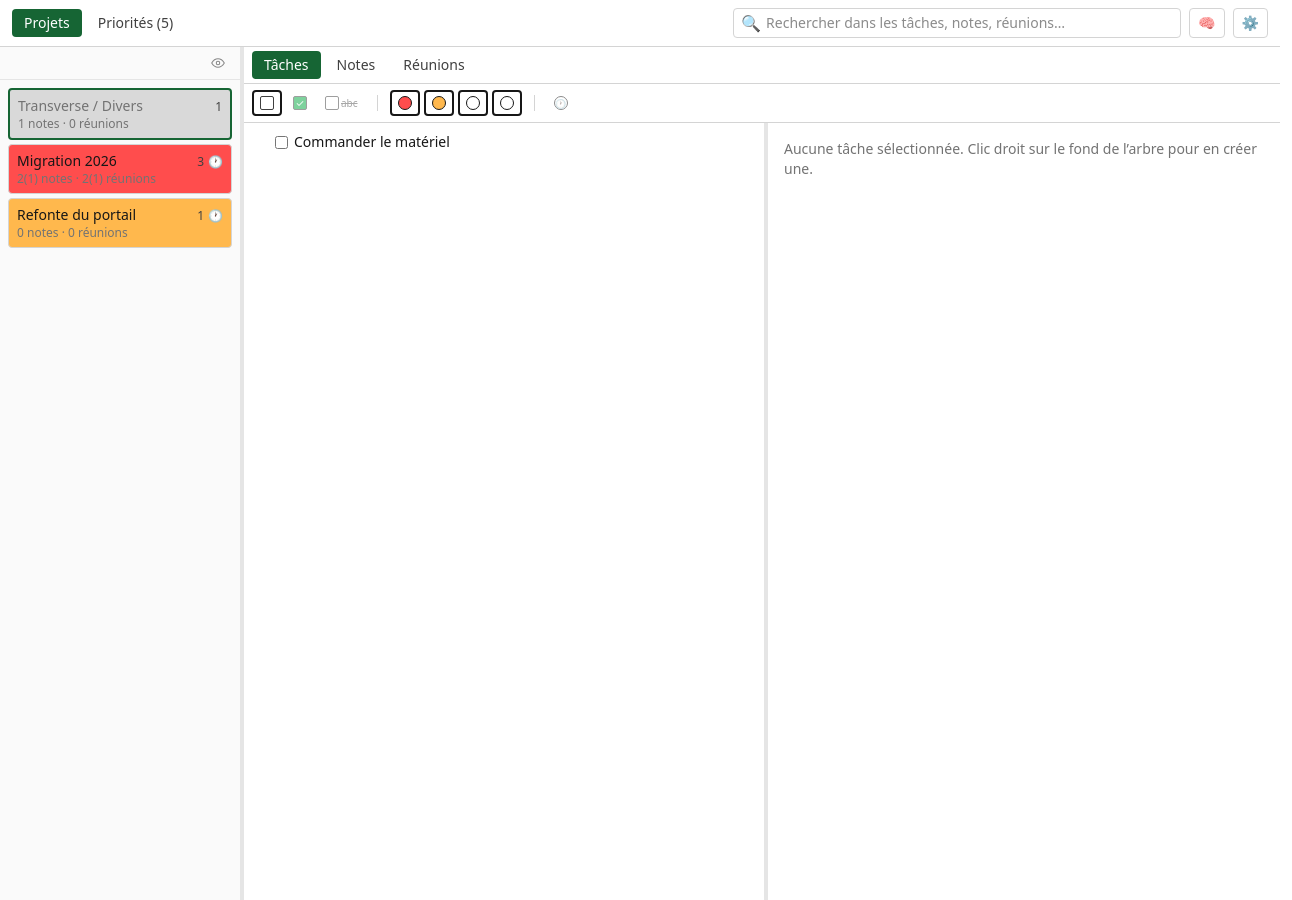
Scenario: Bascule et résultats sémantiques (§2.12) › seules les entités ajoutées remontent, et le mode est signalé
The width and height of the screenshot is (1292, 900).
Expected: the navigation bar named "Projets" is shown, [0,80,240,899]
Click the tab "Notes". click: (356, 65)
box: [324,51,387,79]
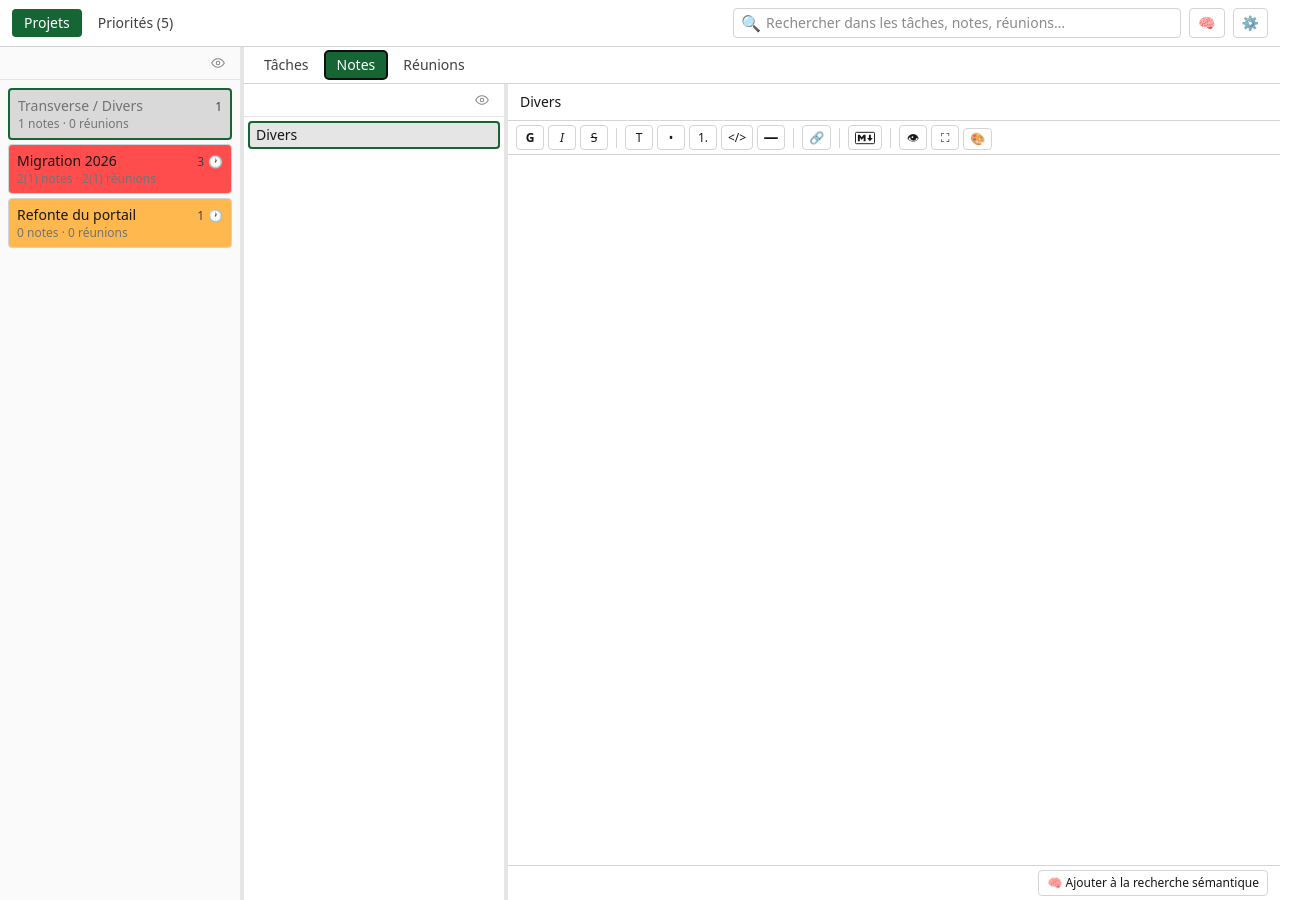
Click the button "Migration 2026 3 🕐 2(1) notes · 2(1) réunions". click: (120, 169)
box: [8,144,232,194]
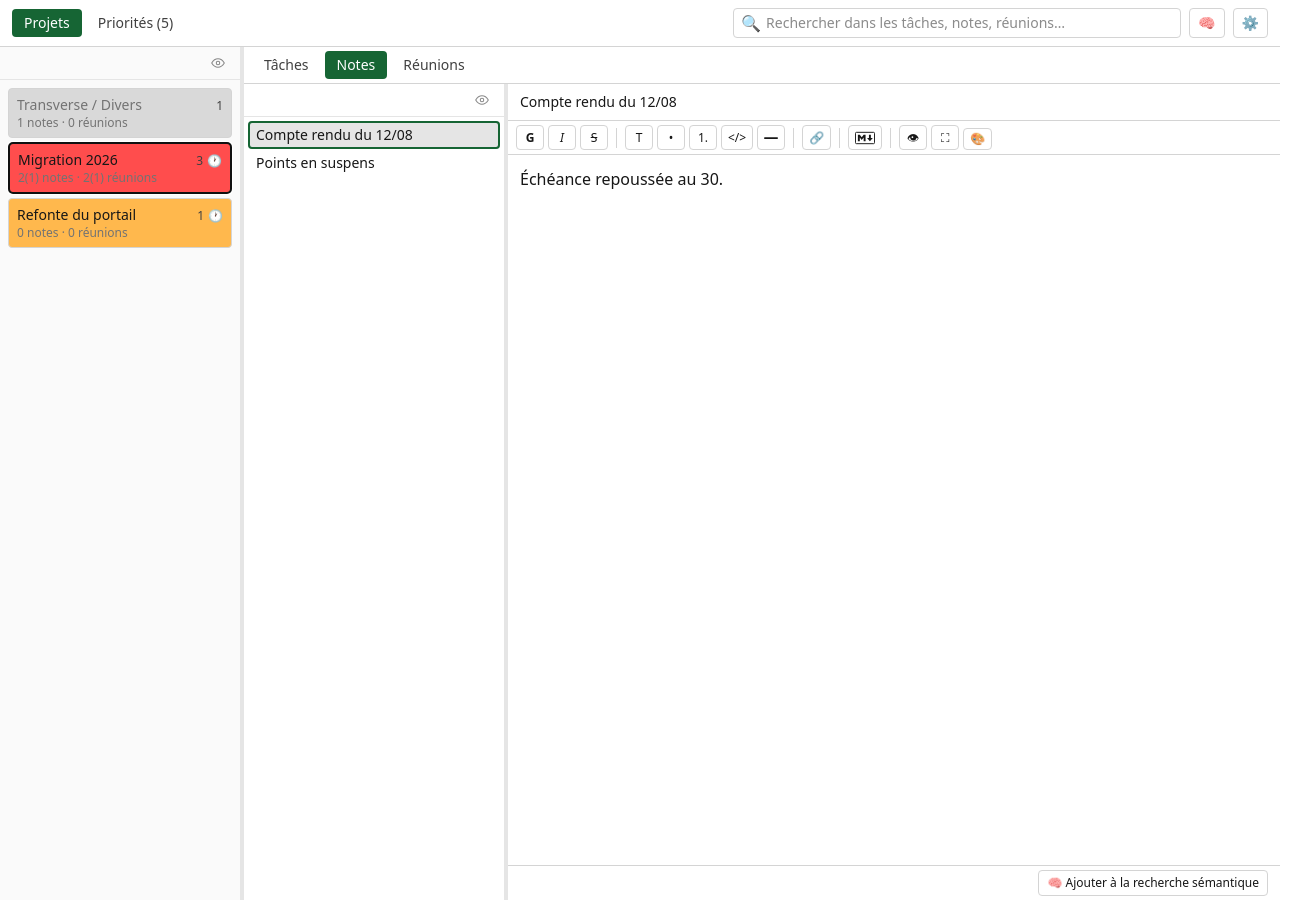
Click the button "Compte rendu du 12/08". click: (374, 135)
box: [248,121,500,149]
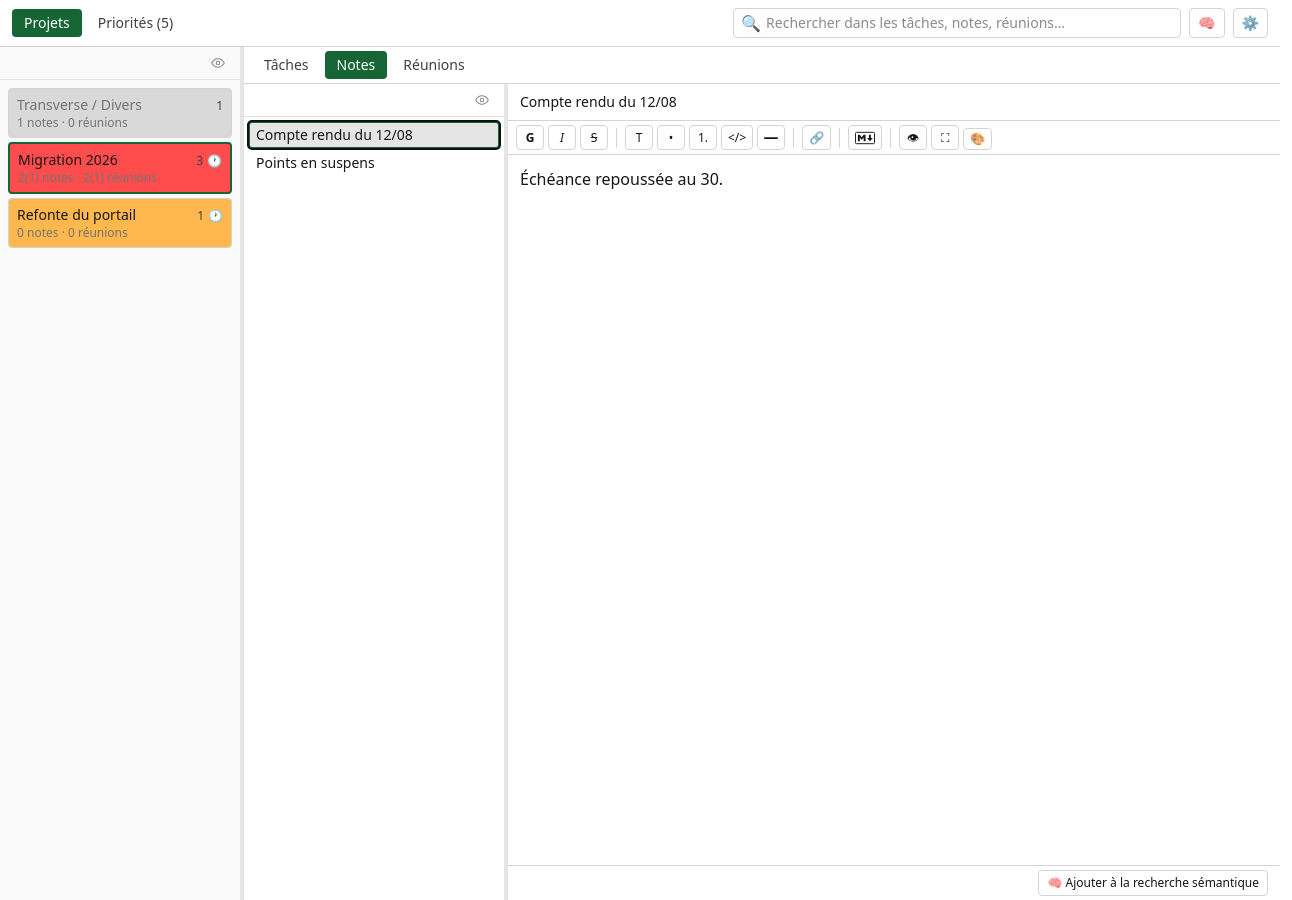
Click the button "🧠 Ajouter à la recherche sémantique". click: (1153, 883)
box: [1038,870,1268,896]
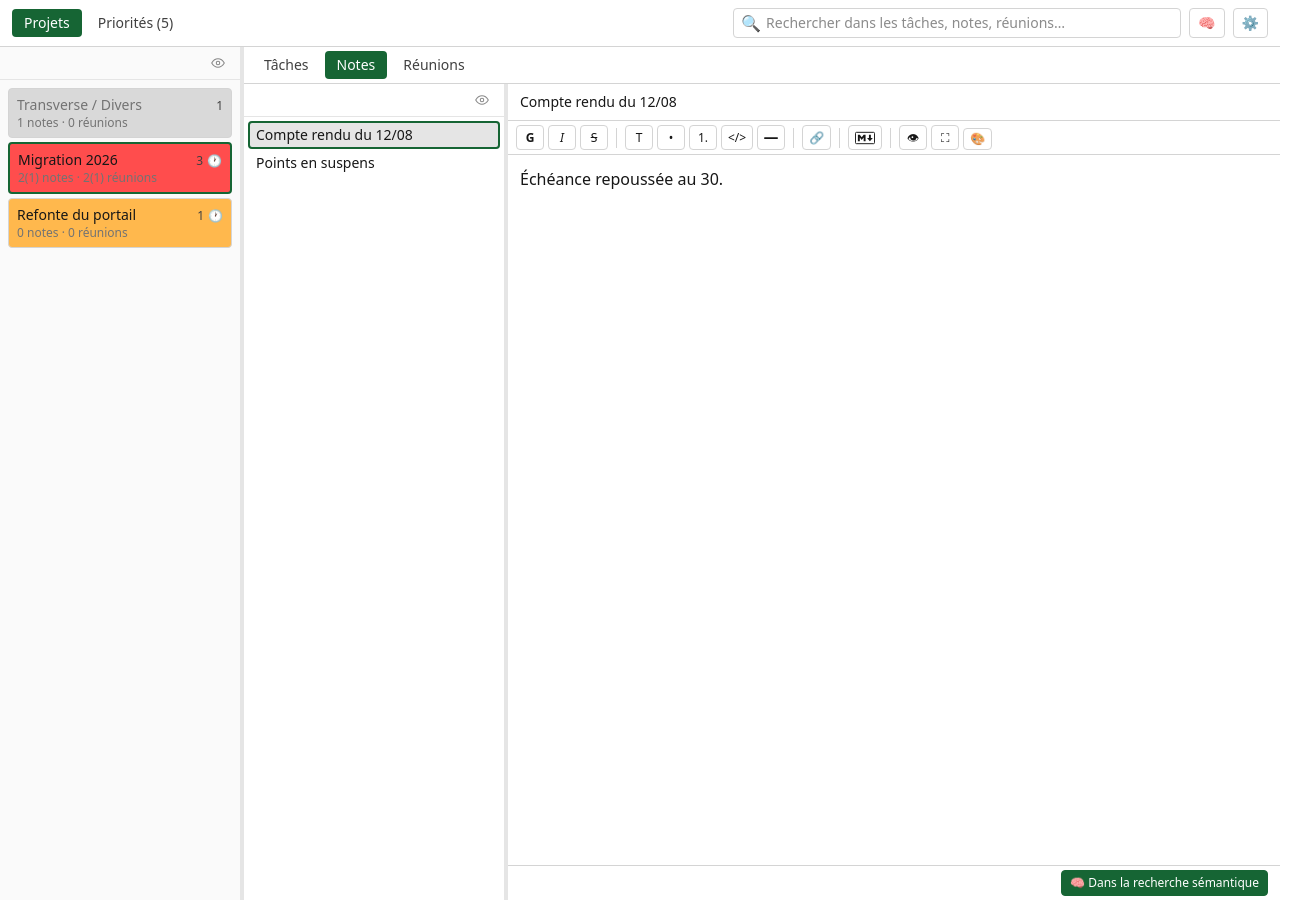
Now the button "🧠 Dans la recherche sémantique" is shown, box [1061,870,1268,896]
Click the button named "Recherche sémantique". click: (1207, 23)
box: [1189,8,1225,38]
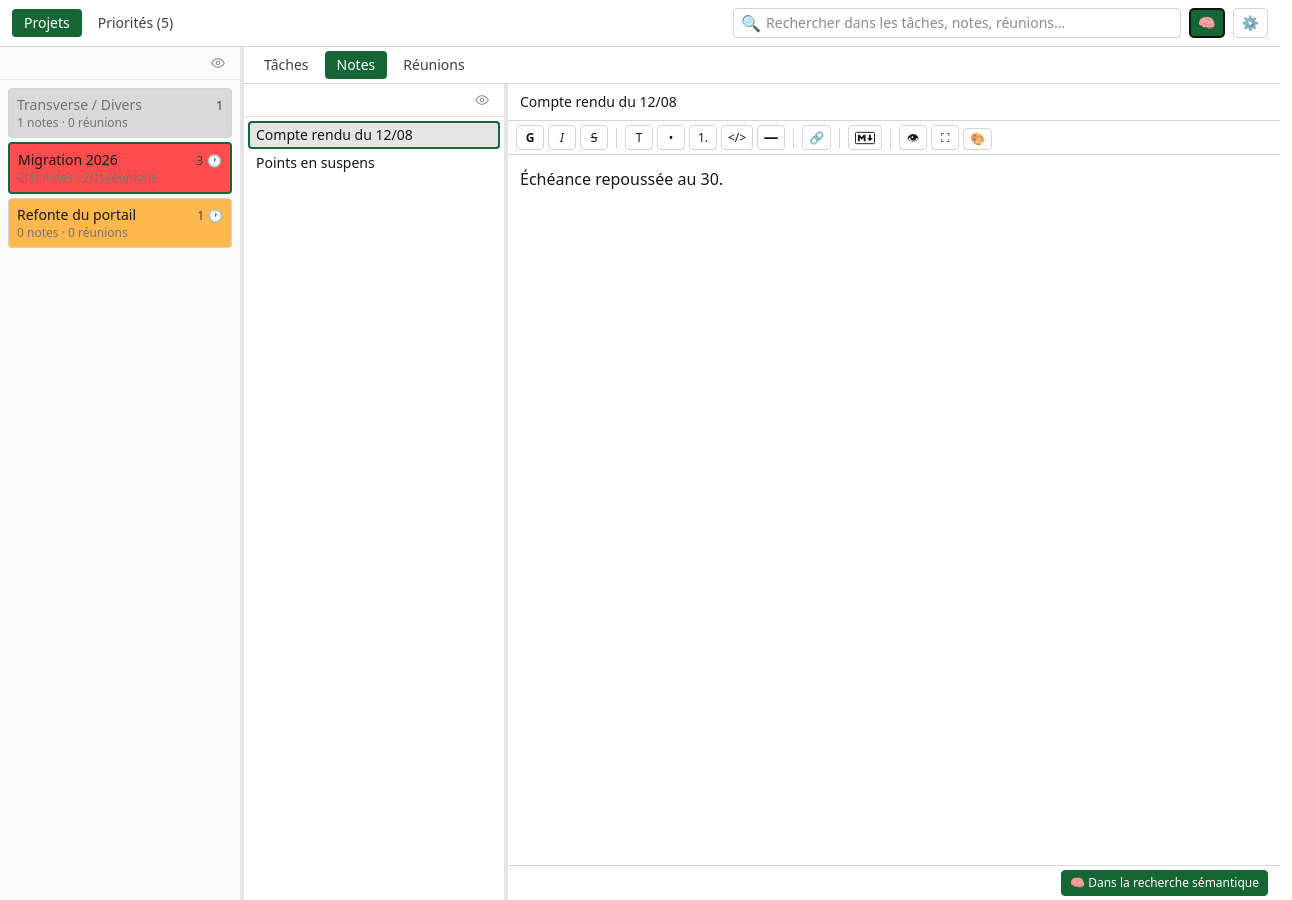
Type "échéance repoussée" into the search field named "Rechercher". click: (957, 23)
box: [733,8,1181,38]
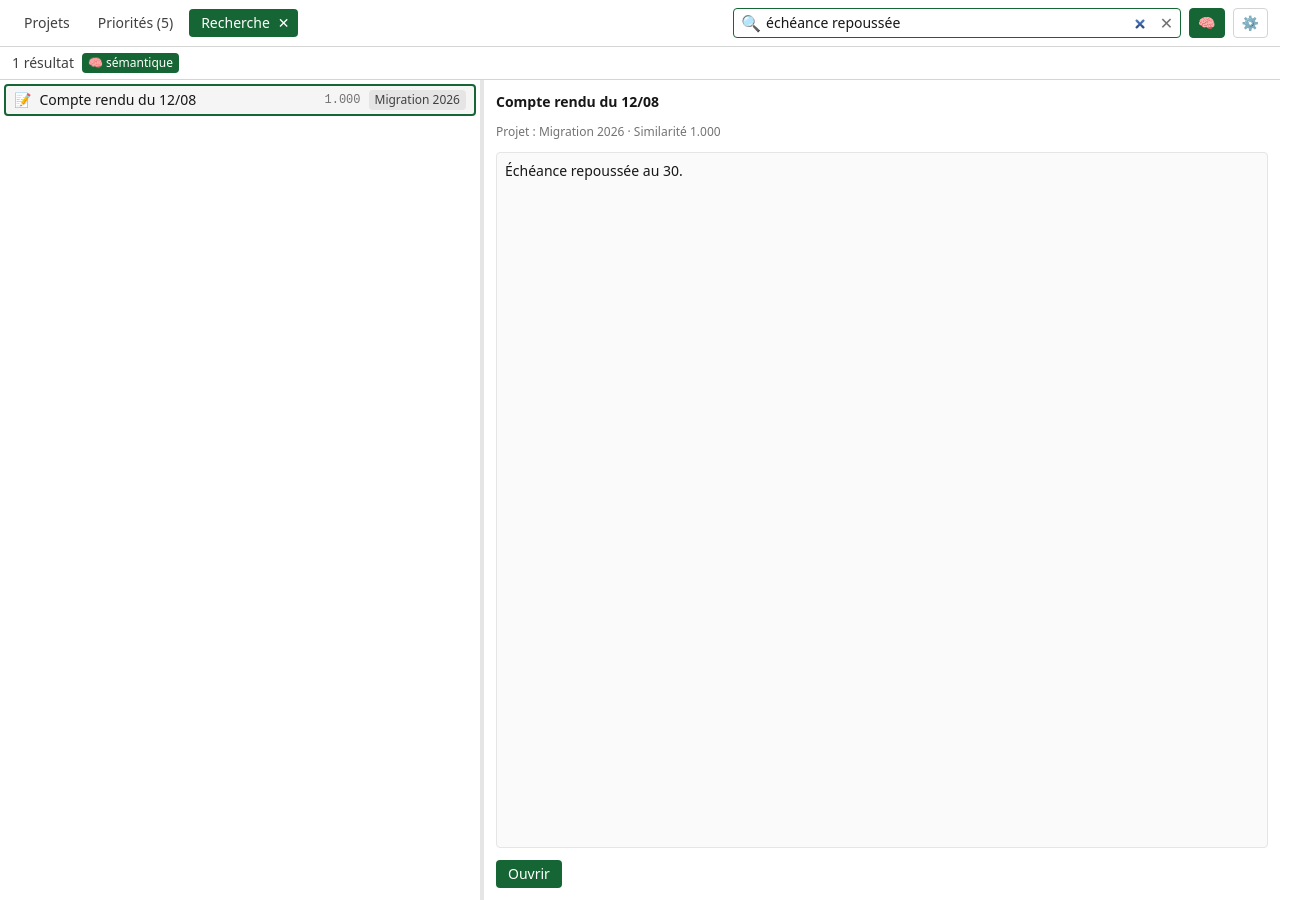
Now the text "🧠 sémantique" is shown, box [82,53,179,73]
Now the number of list items is 1, box [4,84,476,116]
Now the text "Compte rendu du 12/08" is shown, box [40,90,196,110]
